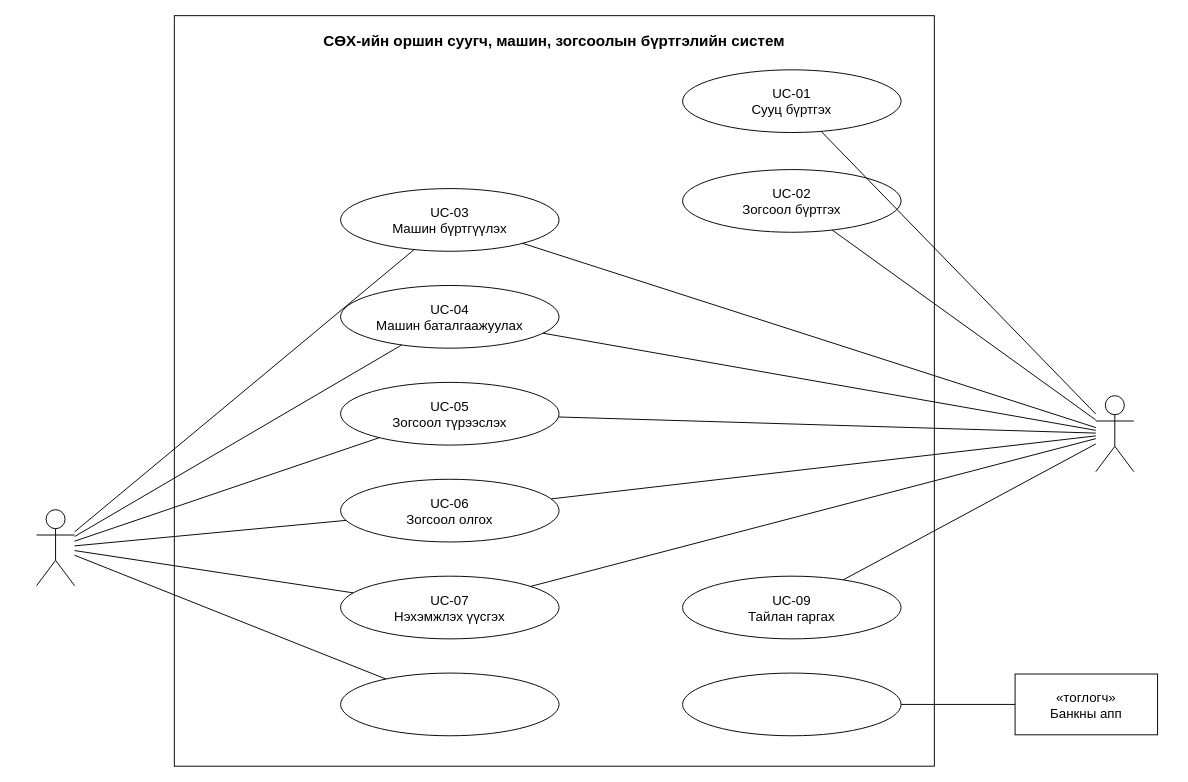
The diagram is 1188 pixels wide and 782 high, and some of its shapes have lost their labels. Here are the shapes that lost their labels. From the top down, the centre of each, then its label:
At [1114,433]: "СӨХ-ийн менежер".
At [55,547]: "Оршин суугч".
At [449,704]: "UC-08 Төлбөр харах".
At [791,704]: "UC-10 Төлбөр харуулах".
